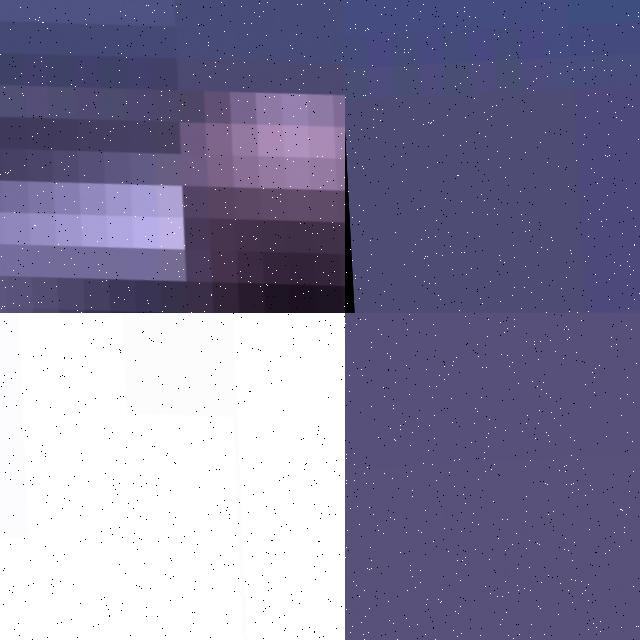0: (0, 0, 345, 313)
drone: (0, 313, 345, 640)
